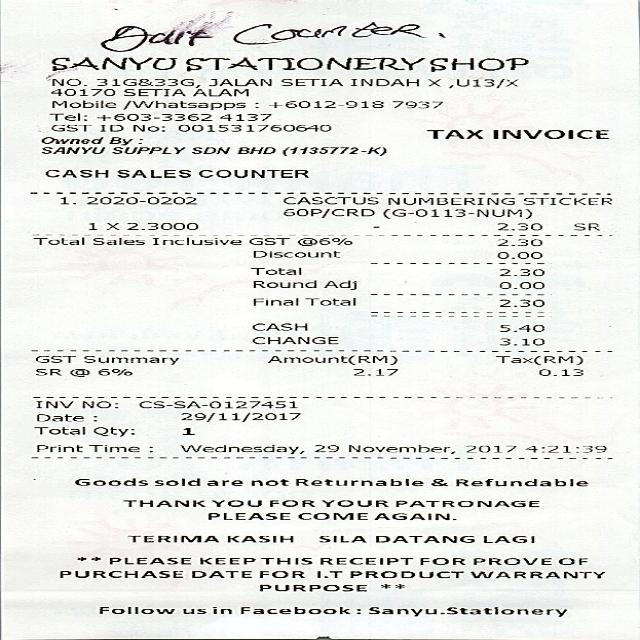text: (45, 56, 527, 70), (367, 606, 565, 616), (382, 208, 530, 218), (266, 354, 396, 364), (138, 400, 296, 408), (179, 444, 302, 454), (122, 100, 244, 110), (468, 570, 603, 578), (180, 412, 299, 421), (176, 124, 328, 131), (454, 478, 587, 486), (347, 444, 453, 454), (492, 129, 607, 138), (293, 478, 422, 486), (96, 78, 198, 88), (394, 499, 538, 506), (81, 354, 177, 364), (240, 606, 358, 614), (280, 146, 384, 155), (280, 208, 373, 218), (267, 100, 381, 108), (348, 570, 462, 578), (385, 197, 513, 204), (521, 196, 610, 206), (84, 196, 195, 204), (493, 354, 581, 364), (197, 169, 306, 177), (58, 570, 180, 577), (94, 113, 210, 120), (152, 236, 239, 245), (280, 196, 377, 204), (35, 411, 94, 424), (257, 584, 365, 591), (318, 556, 411, 564), (251, 250, 338, 258), (373, 535, 472, 542), (447, 78, 516, 88), (251, 336, 337, 344), (107, 556, 189, 564), (373, 512, 454, 520), (208, 512, 288, 520), (126, 535, 217, 542), (30, 233, 87, 244), (114, 169, 189, 177), (74, 477, 146, 485), (122, 499, 204, 506), (91, 233, 143, 244), (496, 233, 540, 246), (525, 445, 604, 452), (348, 78, 417, 86), (297, 512, 366, 520), (249, 266, 302, 276), (98, 606, 172, 613), (424, 129, 481, 138), (49, 88, 113, 96), (278, 78, 341, 86), (207, 78, 270, 86), (121, 88, 184, 96), (51, 100, 114, 108), (111, 146, 183, 153), (44, 169, 107, 177), (251, 280, 314, 288), (126, 222, 196, 229), (496, 296, 545, 306), (189, 570, 250, 578), (350, 366, 398, 376), (472, 558, 550, 564), (226, 535, 292, 542), (190, 88, 247, 96), (40, 146, 104, 153), (322, 499, 386, 506), (40, 136, 102, 143), (296, 237, 350, 245), (251, 322, 305, 330), (390, 100, 441, 108), (302, 298, 353, 306), (32, 426, 83, 434), (87, 444, 138, 452), (201, 556, 252, 564), (92, 426, 132, 436), (34, 444, 81, 452), (262, 556, 309, 564), (152, 477, 198, 485), (257, 570, 303, 578), (217, 113, 269, 120), (464, 445, 515, 452), (209, 499, 260, 506), (496, 222, 540, 230), (498, 268, 542, 276), (498, 324, 542, 332), (498, 337, 542, 345), (180, 606, 230, 613), (253, 298, 296, 306), (316, 535, 365, 542), (483, 535, 532, 542), (322, 279, 354, 289), (34, 354, 74, 362), (268, 499, 313, 506), (46, 112, 85, 120), (496, 251, 540, 258), (538, 368, 582, 375), (108, 136, 141, 145), (48, 124, 90, 131), (246, 237, 288, 244), (35, 400, 71, 408), (80, 400, 116, 408), (250, 478, 286, 486), (189, 146, 228, 153), (234, 146, 273, 153), (418, 558, 463, 564), (498, 282, 542, 288), (48, 78, 79, 86), (96, 368, 130, 375), (130, 124, 163, 131), (204, 479, 242, 485), (571, 222, 598, 230), (315, 570, 340, 578), (34, 368, 59, 375), (313, 444, 337, 451), (69, 368, 87, 377), (558, 558, 585, 564), (99, 124, 121, 131), (428, 478, 446, 486), (57, 196, 74, 204), (426, 78, 439, 86), (105, 222, 117, 229), (182, 428, 193, 434), (86, 222, 95, 229)
